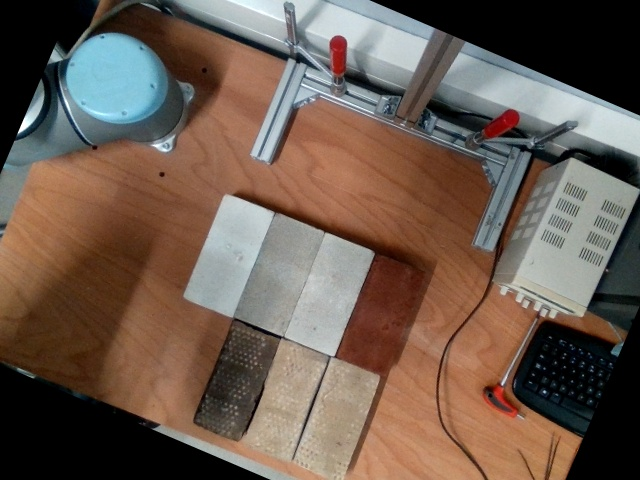brick: (285, 234, 372, 355), (185, 194, 271, 315), (236, 214, 322, 335), (296, 359, 379, 477), (244, 343, 329, 457), (341, 257, 422, 372), (199, 324, 275, 437)
